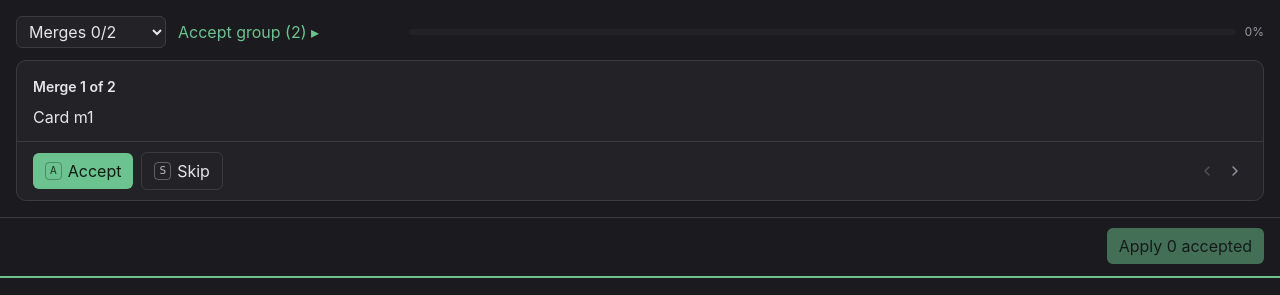
Test case: ReviewDeck › shows the groups as a dropdown when compact
The image size is (1280, 295).
Select "Sheets 0/1" in the dropdown named "Group": [91, 32] box [16, 16, 166, 48]
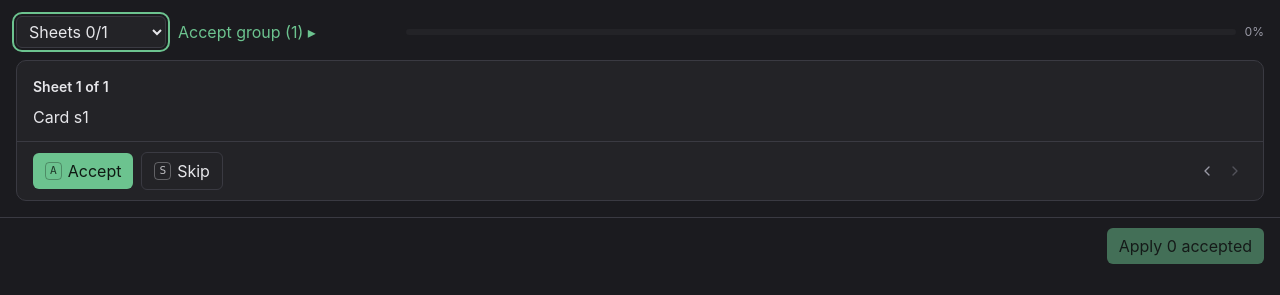
Check: the text "Card s1" is shown, box [33, 107, 89, 127]
